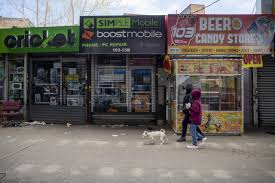mask: (189, 87, 202, 99), (181, 81, 192, 93)
